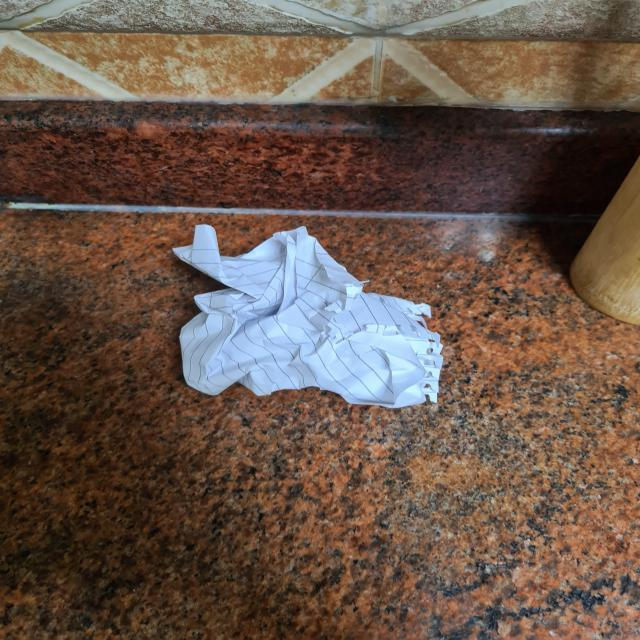cardboard paper: (172, 224, 441, 406)
